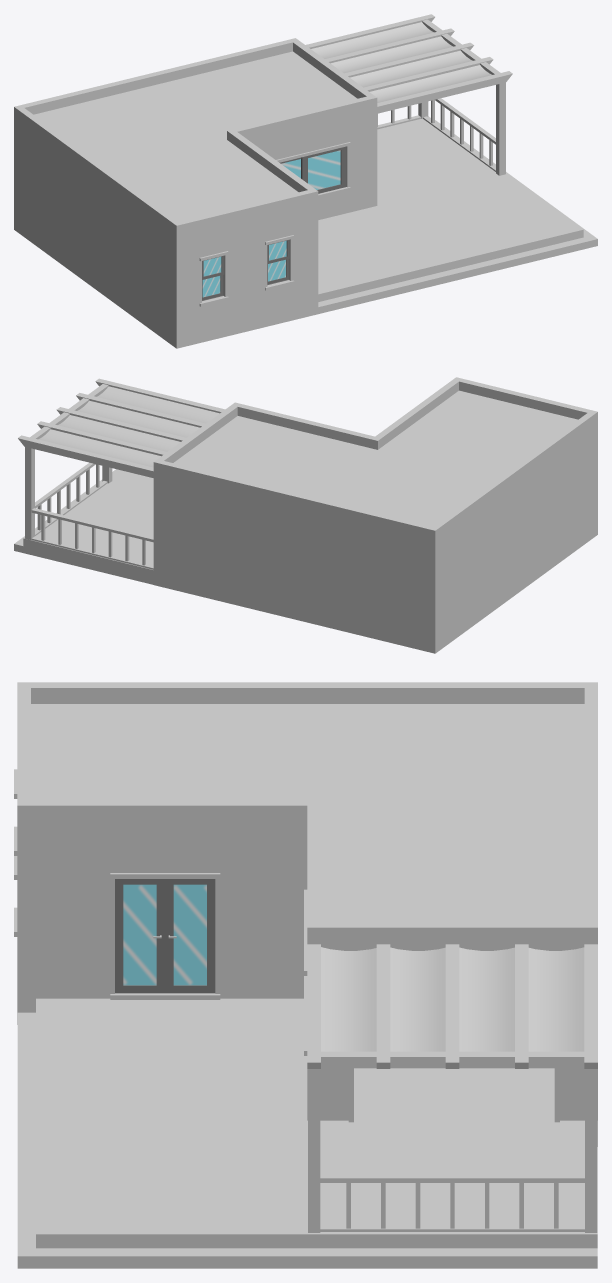
Rendered from Paradise_cafe.fbx.
3 renders of one model, top to bottom at view 1: azimuth 30°, elevation 25°; view 2: azimuth 150°, elevation 25°; view 3: azimuth 270°, elevation 25°, orthographic. The views are drawn at different scales.
Visible parts, largest first — view 1: Box002, Box003, Box031, Box032, Box004, Tube004, Tube002, Tube003, Tube001, Box007, Box013, Box039 (+6 smaller); view 2: Box002, Box031, Box032, Box003, Tube001, Tube004, Tube002, Tube003, Box011, Box014, Box010, Box009 (+6 smaller); view 3: Box003, Box002, Box031, Box032, Box005, Tube004, Tube002, Tube001, Tube003, Box012, Box015, Box013 (+8 smaller).
Boxes of the visible parts, x1=… form: Box002: x1=14, y1=38, x2=377, y2=348; Box003: x1=318, y1=116, x2=597, y2=313; Box031: x1=34, y1=51, x2=357, y2=168; Box032: x1=108, y1=140, x2=298, y2=221; Box004: x1=279, y1=146, x2=346, y2=193; Tube004: x1=311, y1=22, x2=433, y2=58; Tube002: x1=350, y1=50, x2=472, y2=87; Tube003: x1=331, y1=36, x2=452, y2=73; Tube001: x1=370, y1=65, x2=491, y2=102; Box007: x1=377, y1=71, x2=512, y2=113; Box013: x1=496, y1=82, x2=505, y2=175; Box039: x1=202, y1=255, x2=224, y2=300; Box002: x1=153, y1=377, x2=597, y2=653; Box031: x1=173, y1=416, x2=498, y2=526; Box032: x1=379, y1=390, x2=577, y2=478; Box003: x1=14, y1=469, x2=153, y2=584; Tube001: x1=97, y1=386, x2=219, y2=423; Tube004: x1=38, y1=429, x2=160, y2=467; Tube002: x1=77, y1=400, x2=199, y2=437; Tube003: x1=58, y1=415, x2=180, y2=451; Box011: x1=18, y1=435, x2=153, y2=477; Box014: x1=25, y1=447, x2=34, y2=540; Box010: x1=37, y1=421, x2=166, y2=456; Box009: x1=56, y1=407, x2=186, y2=441; Box003: x1=17, y1=998, x2=597, y2=1268; Box002: x1=17, y1=682, x2=597, y2=1146; Box031: x1=314, y1=704, x2=584, y2=921; Box032: x1=31, y1=704, x2=318, y2=799; Box005: x1=115, y1=879, x2=215, y2=993; Tube004: x1=528, y1=947, x2=584, y2=1051; Tube002: x1=390, y1=947, x2=445, y2=1051; Tube001: x1=321, y1=947, x2=376, y2=1051; Tube003: x1=459, y1=947, x2=514, y2=1051; Box012: x1=321, y1=1051, x2=584, y2=1068; Box015: x1=320, y1=1174, x2=584, y2=1182; Box013: x1=308, y1=1069, x2=320, y2=1232.
Size of the model in its own units: 118 by 32.84 by 79.21.
